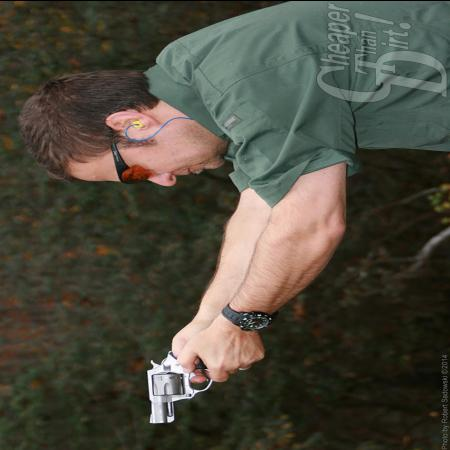Pistol: (136, 347, 231, 424)
